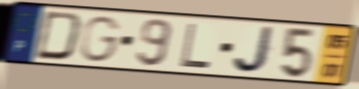5: (278, 27, 316, 81)
9: (134, 17, 173, 69)
D: (32, 9, 85, 63)
G: (78, 14, 124, 64)
J: (231, 25, 277, 76)
L: (178, 22, 212, 71)
